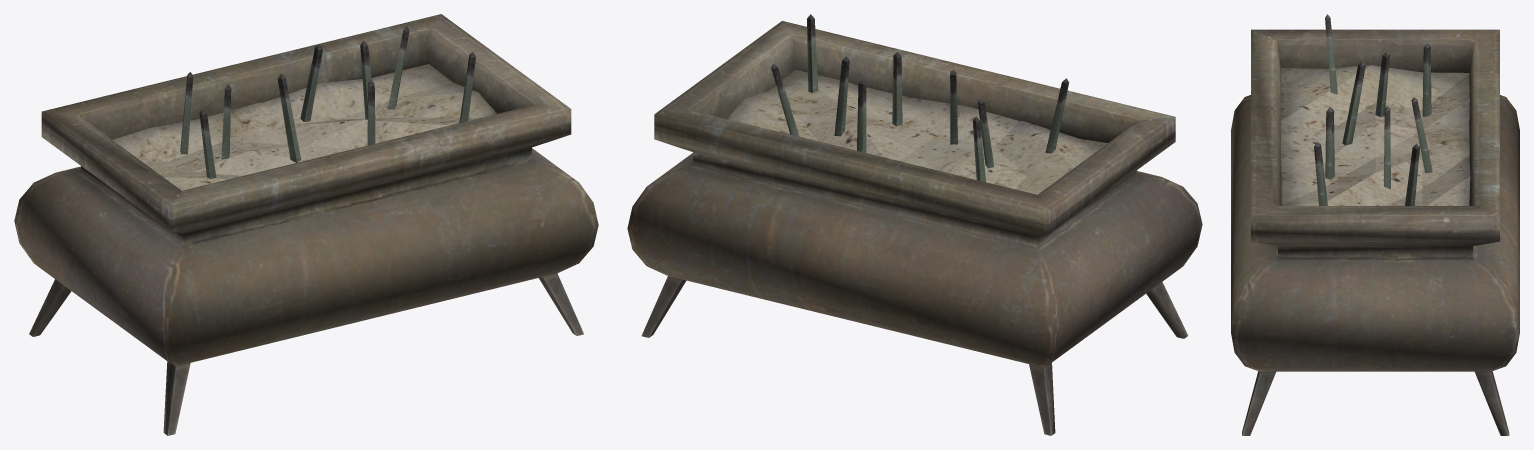
Rendered from bg_anh_mirrorv_bn06_sm_old.FBX.
The picture shows the model from 3 angles, left to right: view 1: azimuth 30°, elevation 25°; view 2: azimuth 150°, elevation 25°; view 3: azimuth 270°, elevation 25°; orthographic projection. The views are drawn at different scales.
Parts seen in each view (by area): view 1: bg_anh_mirrorv_bn06_sm_old; view 2: bg_anh_mirrorv_bn06_sm_old; view 3: bg_anh_mirrorv_bn06_sm_old.
Part boxes in pixels (box(x1,y1,x2,y2)): bg_anh_mirrorv_bn06_sm_old: box(14, 14, 598, 435); bg_anh_mirrorv_bn06_sm_old: box(627, 14, 1202, 435); bg_anh_mirrorv_bn06_sm_old: box(1231, 14, 1519, 435).
Bounding box in the file's own units: 152 × 91.88 × 91.12.
